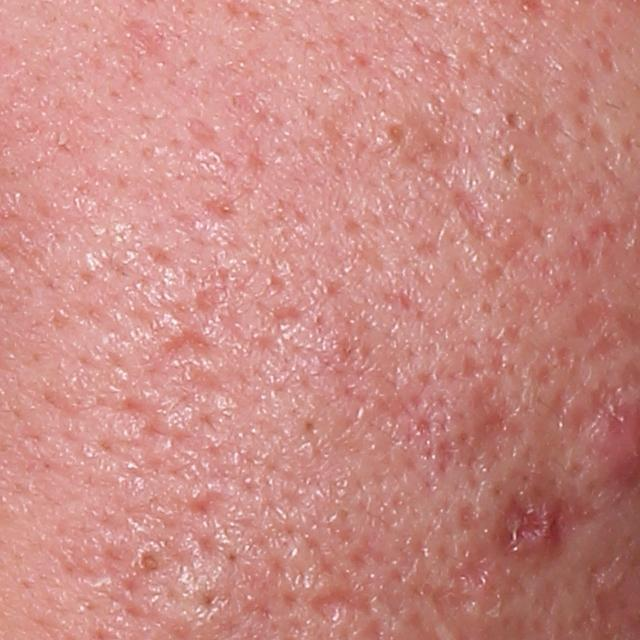atrophic_scar: (432, 372, 529, 472), (430, 551, 502, 614), (452, 188, 517, 251), (493, 486, 556, 551), (313, 586, 380, 627), (153, 327, 220, 361), (566, 293, 608, 341), (180, 488, 225, 521), (584, 114, 615, 150), (598, 44, 621, 83), (454, 497, 474, 532), (573, 82, 598, 109)
comedo: (383, 121, 409, 144), (514, 169, 532, 190)
